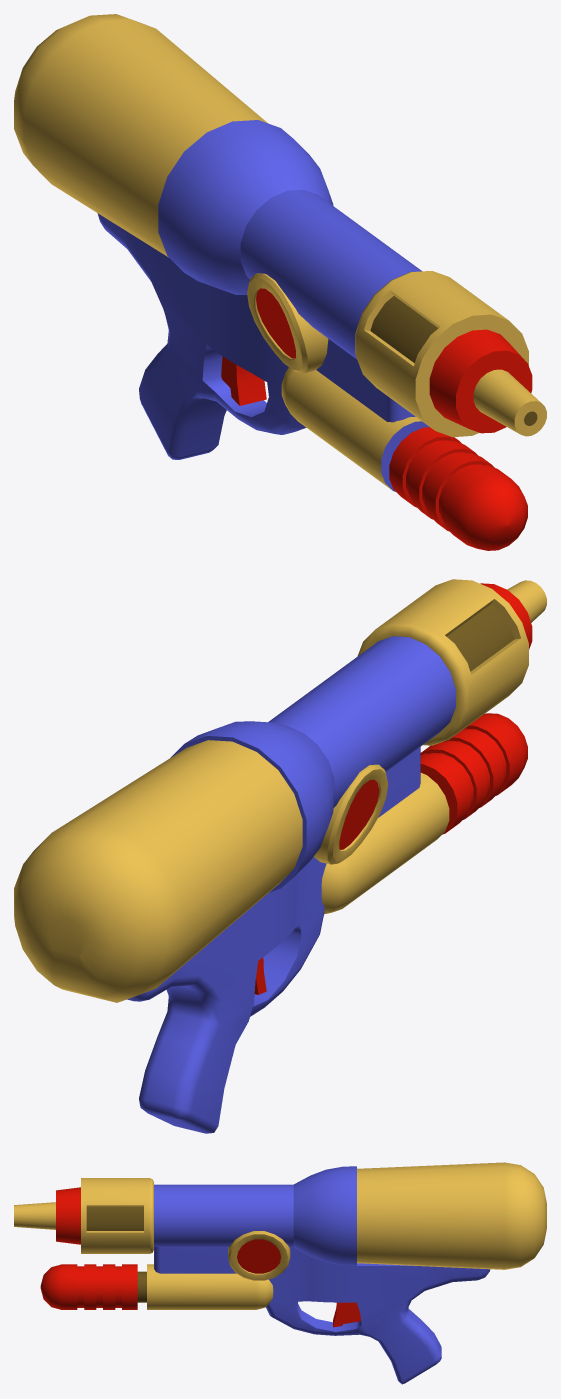
The model's file is SM_Toy_Gun_2.fbx.
The picture shows the model from 3 angles, top to bottom: view 1: azimuth 30°, elevation 25°; view 2: azimuth 150°, elevation 25°; view 3: azimuth 270°, elevation 25°; orthographic projection. The views are drawn at different scales.
Visible parts, largest first — view 1: SM_Toy_Gun_2; view 2: SM_Toy_Gun_2; view 3: SM_Toy_Gun_2.
Boxes of the visible parts, x1,y1,x2,y2 form: SM_Toy_Gun_2: (14, 14, 546, 550); SM_Toy_Gun_2: (14, 579, 546, 1133); SM_Toy_Gun_2: (14, 1162, 546, 1384).
Bounding box in the file's own units: 175 × 384 × 875.
